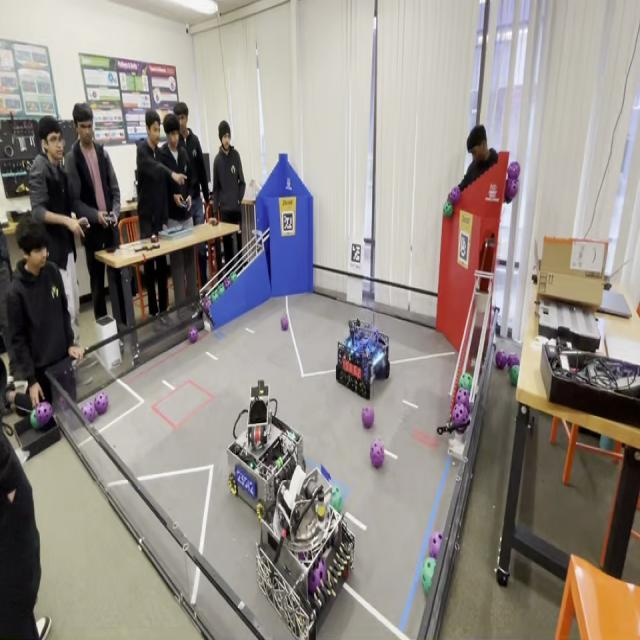artifact_green: (422, 558, 435, 594), (505, 178, 519, 202), (94, 392, 108, 414), (331, 488, 343, 513), (448, 185, 461, 205), (459, 373, 472, 391), (30, 409, 40, 430), (509, 365, 519, 386), (600, 437, 615, 451), (228, 472, 237, 495), (443, 200, 453, 218), (188, 326, 198, 343), (202, 297, 211, 315), (256, 502, 264, 522), (216, 283, 225, 297), (210, 291, 219, 303), (288, 431, 297, 442), (208, 289, 216, 300), (276, 457, 283, 469), (224, 278, 231, 290), (212, 288, 220, 298), (230, 272, 237, 283), (217, 290, 224, 299), (249, 459, 255, 469), (215, 290, 221, 299)
artifact_purple: (308, 559, 327, 594), (36, 402, 53, 426), (370, 439, 384, 468), (429, 531, 442, 559), (452, 405, 469, 426), (82, 401, 97, 423), (94, 392, 108, 414), (505, 179, 519, 200), (362, 407, 374, 429), (456, 388, 469, 408), (449, 185, 461, 205), (495, 350, 507, 370), (508, 162, 520, 180), (507, 352, 519, 368), (203, 297, 211, 314), (189, 328, 198, 343), (281, 316, 288, 330), (224, 278, 231, 289)
